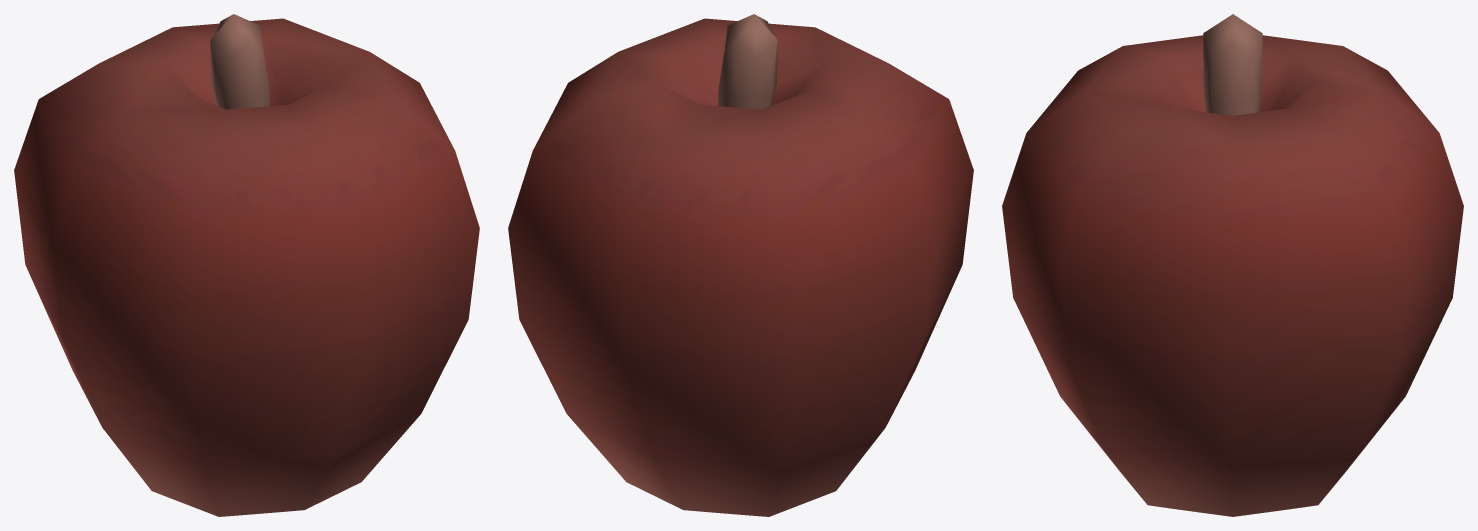
Rendered from Cooked_Apple.fbx.
3 renders of one model, left to right at view 1: azimuth 30°, elevation 25°; view 2: azimuth 150°, elevation 25°; view 3: azimuth 270°, elevation 25°, orthographic.
Parts seen in each view (by area): view 1: Apple (4); view 2: Apple (4); view 3: Apple (4).
Part boxes in pixels (box(x1,y1,x2,y2)): Apple (4): box(14, 14, 479, 516); Apple (4): box(508, 14, 973, 516); Apple (4): box(1002, 14, 1463, 516).
Size of the model in its own units: 0.6167 by 0.7266 by 0.6472.
1 material, 1 textured.
